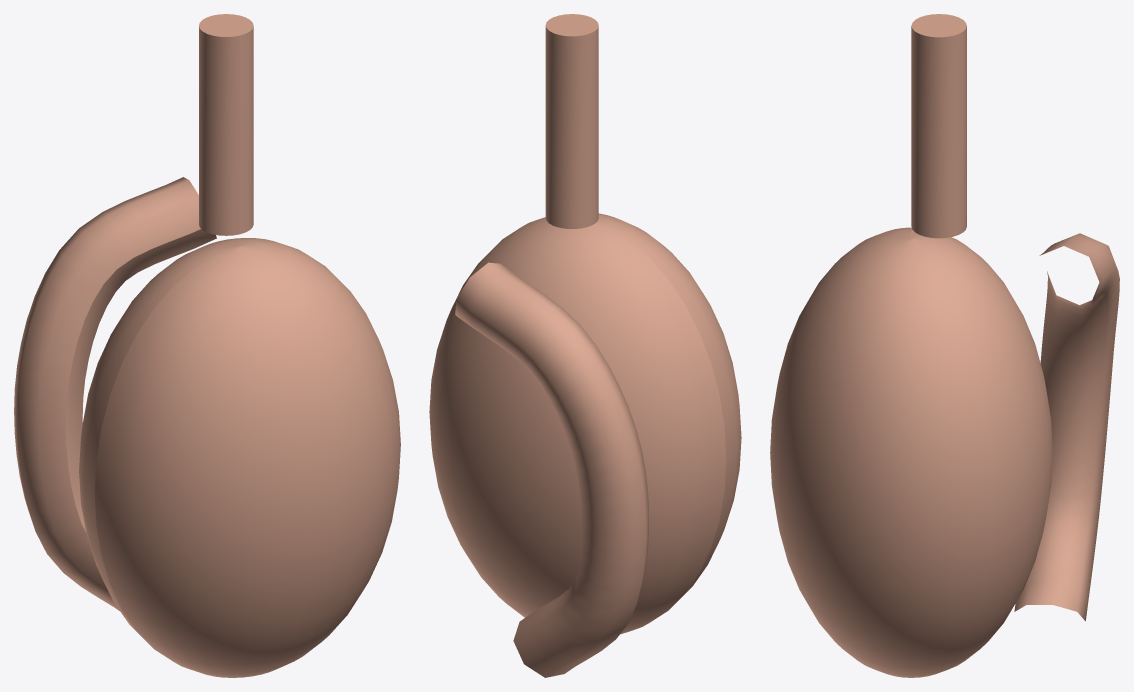
Rendered from testis.glb.
The picture shows the model from 3 angles, left to right: view 1: azimuth 30°, elevation 25°; view 2: azimuth 150°, elevation 25°; view 3: azimuth 270°, elevation 25°; orthographic projection. The views are drawn at different scales.
Size of the model in its own units: 1.82 by 3.8 by 1.88.
